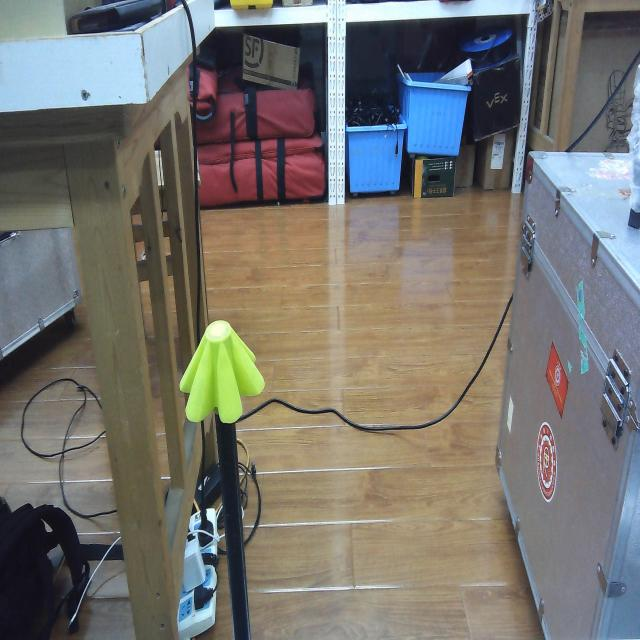Yellow-Stake-Head: (179, 320, 265, 424)
